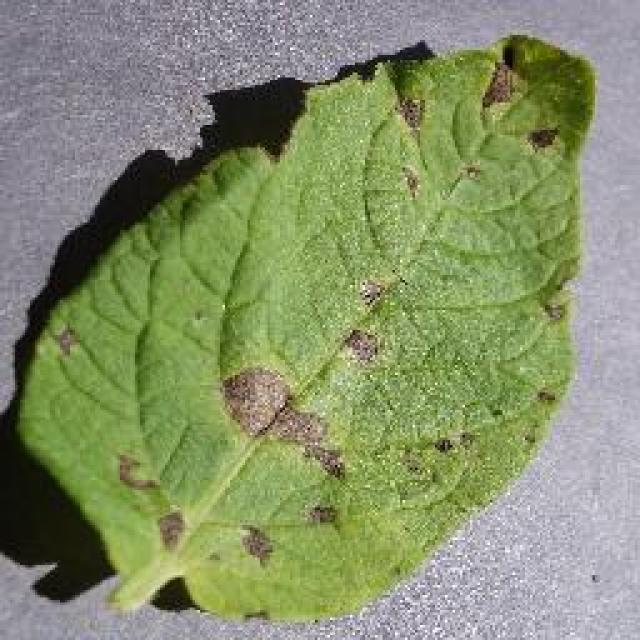early_blight: (8, 30, 600, 628)
